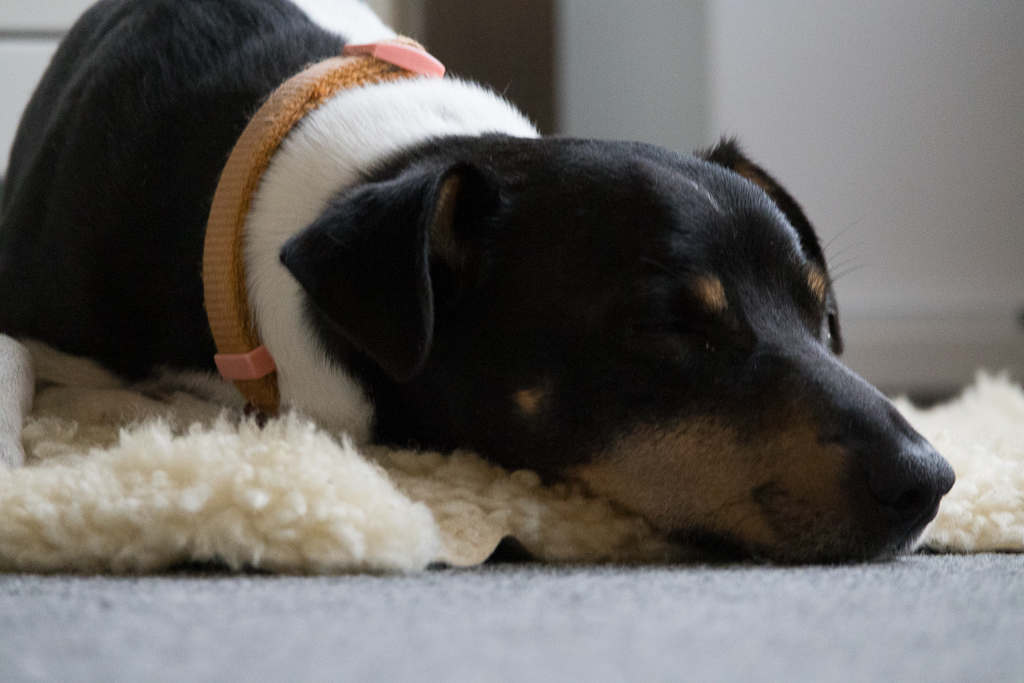Dog: (0, 0, 961, 574)
